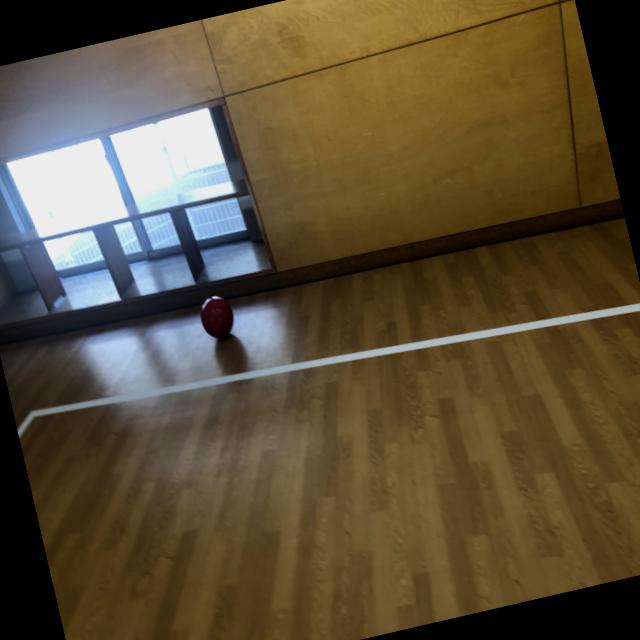red_ball: (196, 289, 238, 341)
